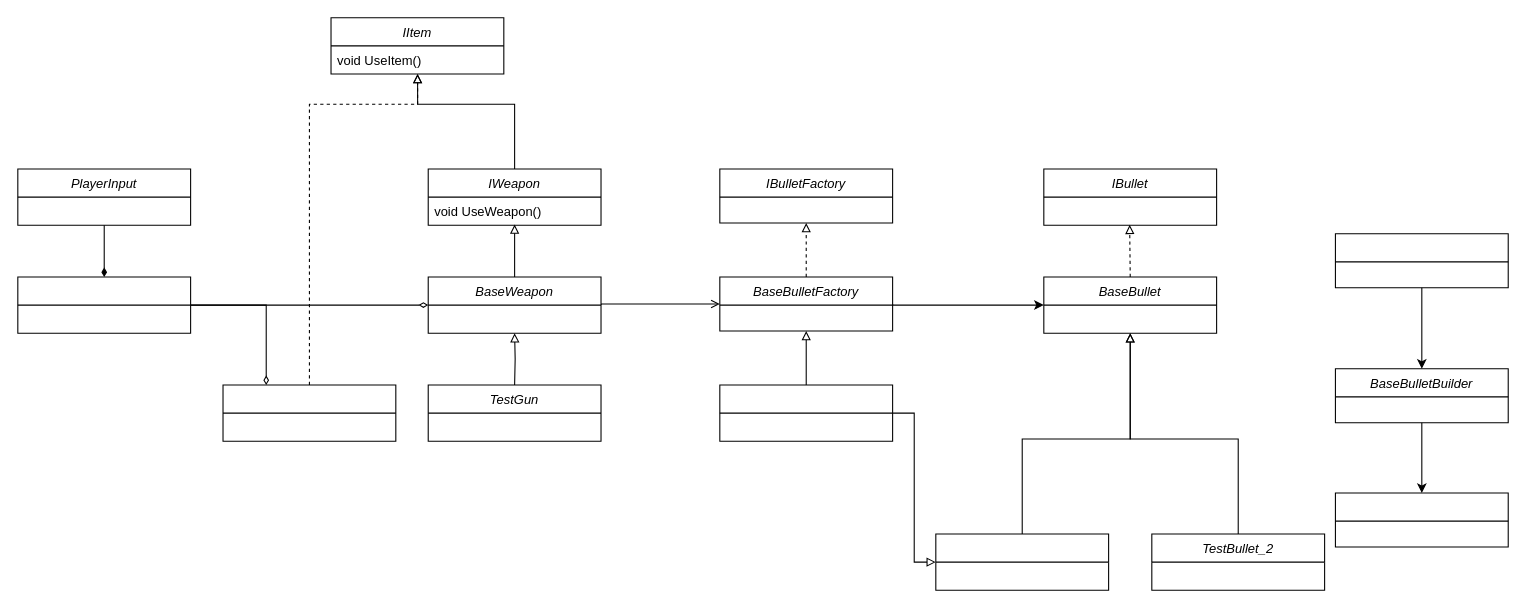
The diagram is 1526 pixels wide and 608 high, and some of its shapes have lost their labels. The centre of each missing label's shape, as x and y in pixels:
"BaseItem" goes at point 309,412.
"IBulletBuilder" goes at point 1421,260.
"PlayerInfo" goes at point 104,304.
"TestBullet_1" goes at point 1022,561.
"TestBulletBuilder" goes at point 1421,519.
"TestBulletFactory_1" goes at point 806,412.
